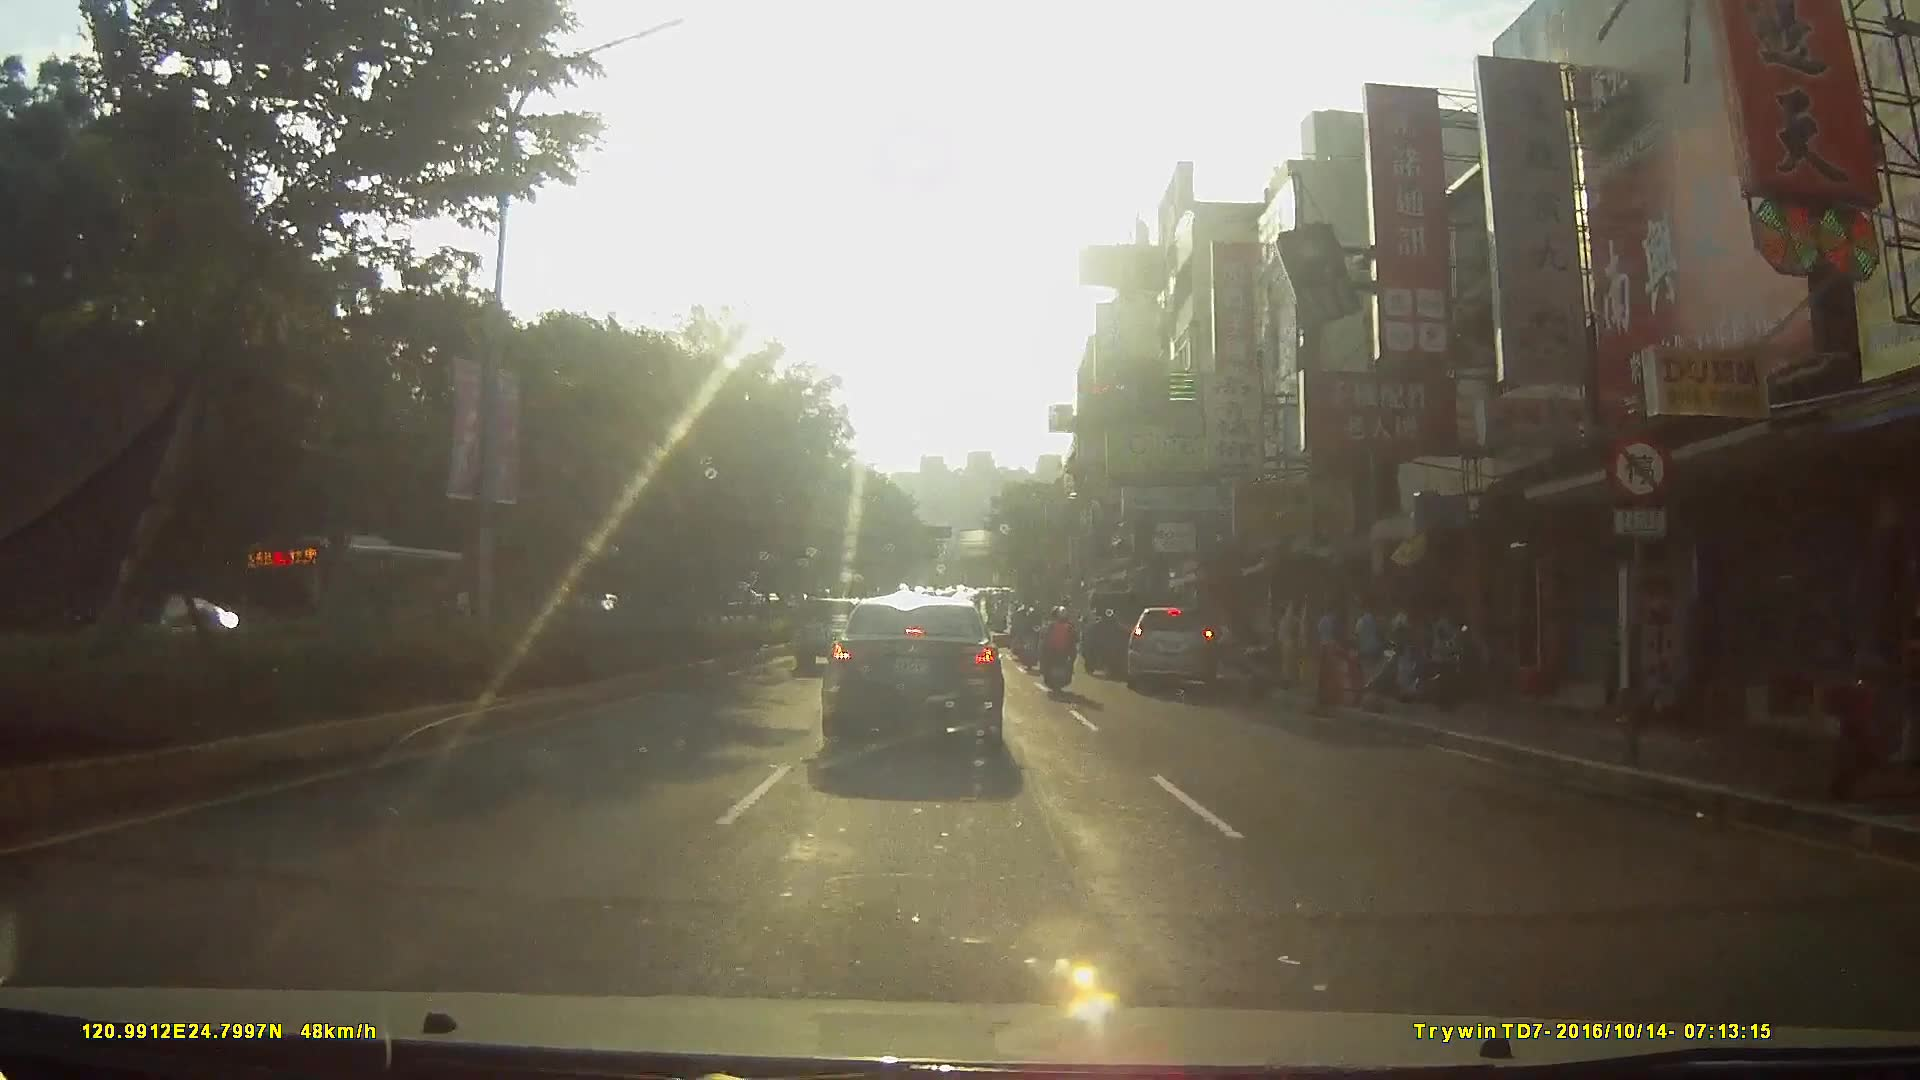pedestrian: (1351, 598, 1383, 683), (1393, 596, 1413, 661)
rider: (1042, 599, 1086, 696), (1017, 602, 1043, 669)
vehicle: (821, 588, 1030, 765), (231, 527, 471, 664), (1130, 598, 1230, 691), (1077, 577, 1166, 674)
